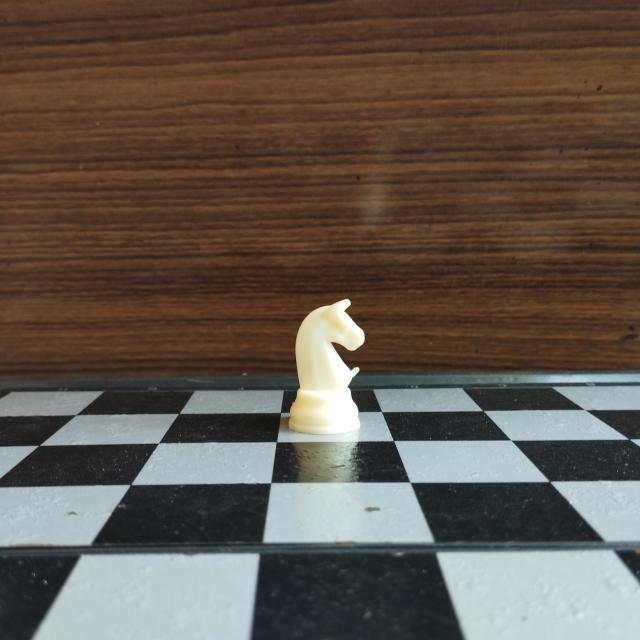White Knight: (282, 290, 368, 442)
